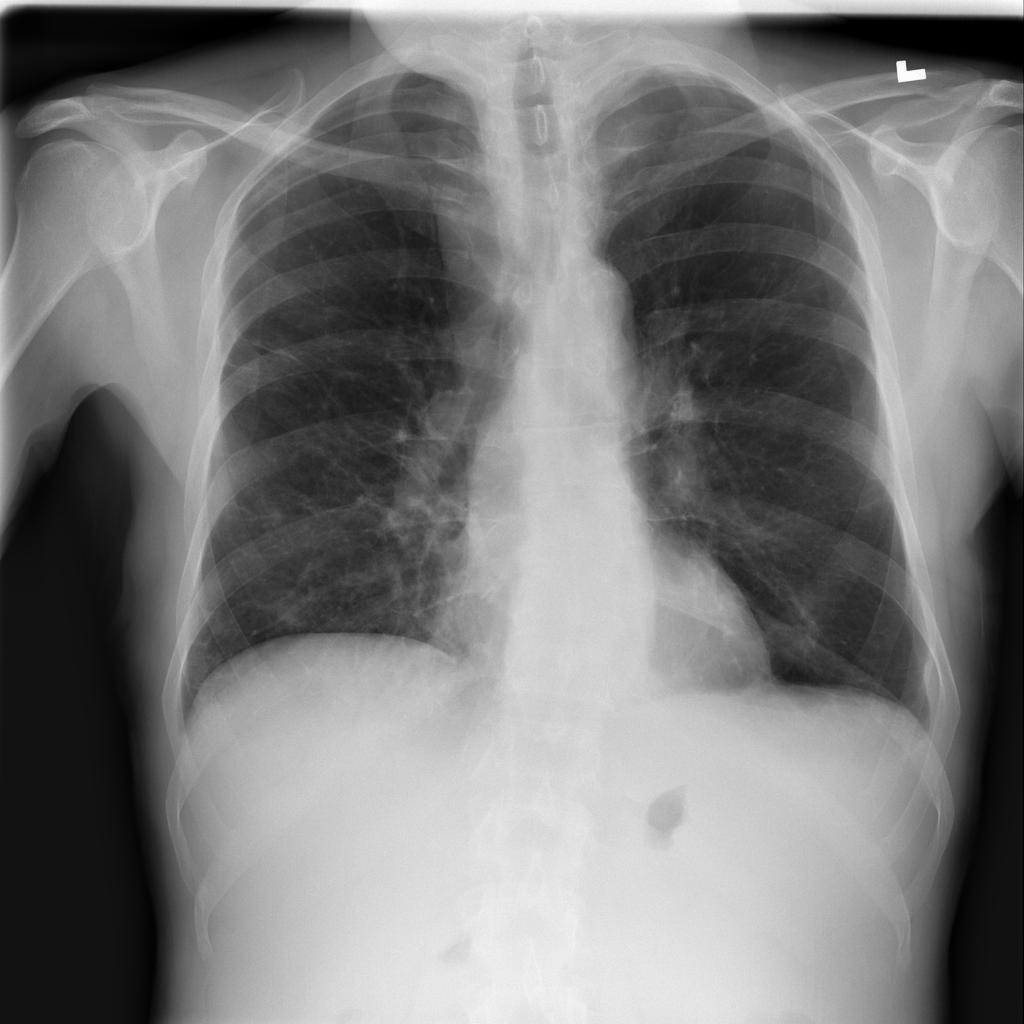nodule: (255, 576, 328, 643)
